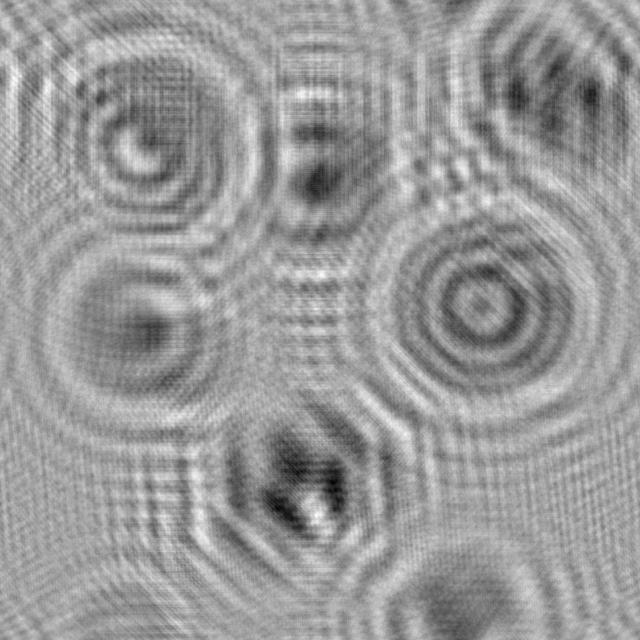C: (0, 0, 274, 263)
F: (229, 37, 440, 288)
J: (15, 227, 279, 445)
N: (425, 0, 640, 189)
Q: (344, 173, 640, 460)
W: (161, 353, 436, 596), (610, 346, 611, 346)
Z: (328, 497, 580, 640)
